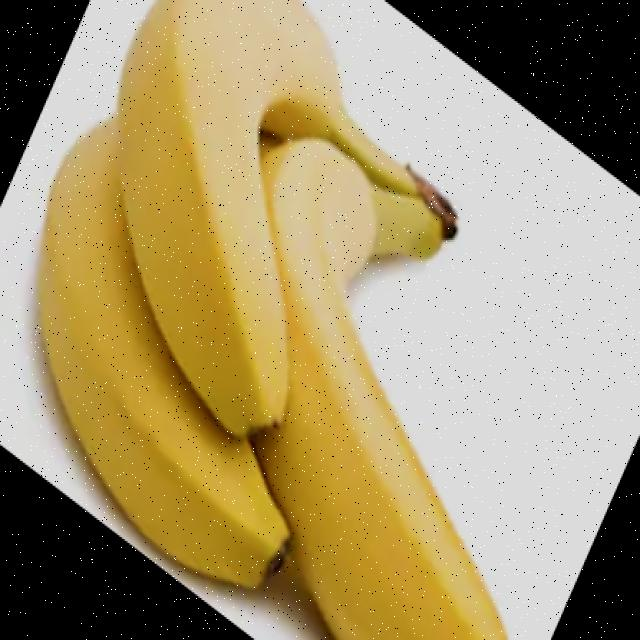god quality banana: (37, 2, 504, 637)
